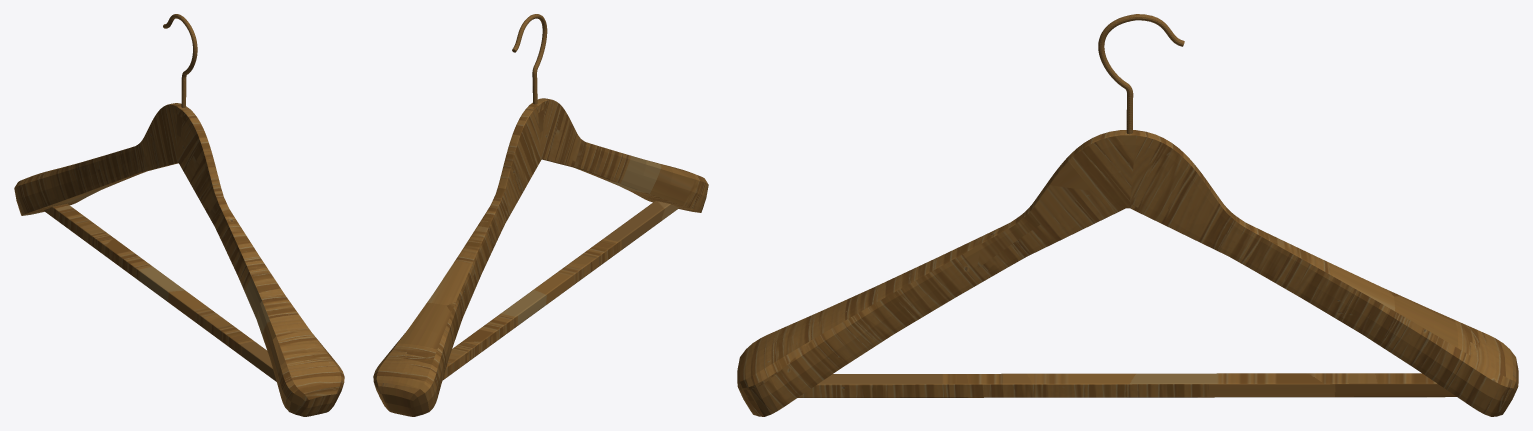
Rendered from Coat Hanger.obj.
3 renders of one model, left to right at view 1: azimuth 30°, elevation 25°; view 2: azimuth 150°, elevation 25°; view 3: azimuth 270°, elevation 25°, orthographic. The views are drawn at different scales.
Visible parts, largest first — view 1: hanger Firefighter_Jacket3; view 2: hanger Firefighter_Jacket3; view 3: hanger Firefighter_Jacket3.
Boxes of the visible parts, bbox=[...] form: hanger Firefighter_Jacket3: bbox=[14, 14, 344, 416]; hanger Firefighter_Jacket3: bbox=[373, 14, 708, 416]; hanger Firefighter_Jacket3: bbox=[737, 14, 1518, 416].
Size of the model in its own units: 1.34 by 6.59 by 11.73.
Materials: 1 (1 with a texture image).
